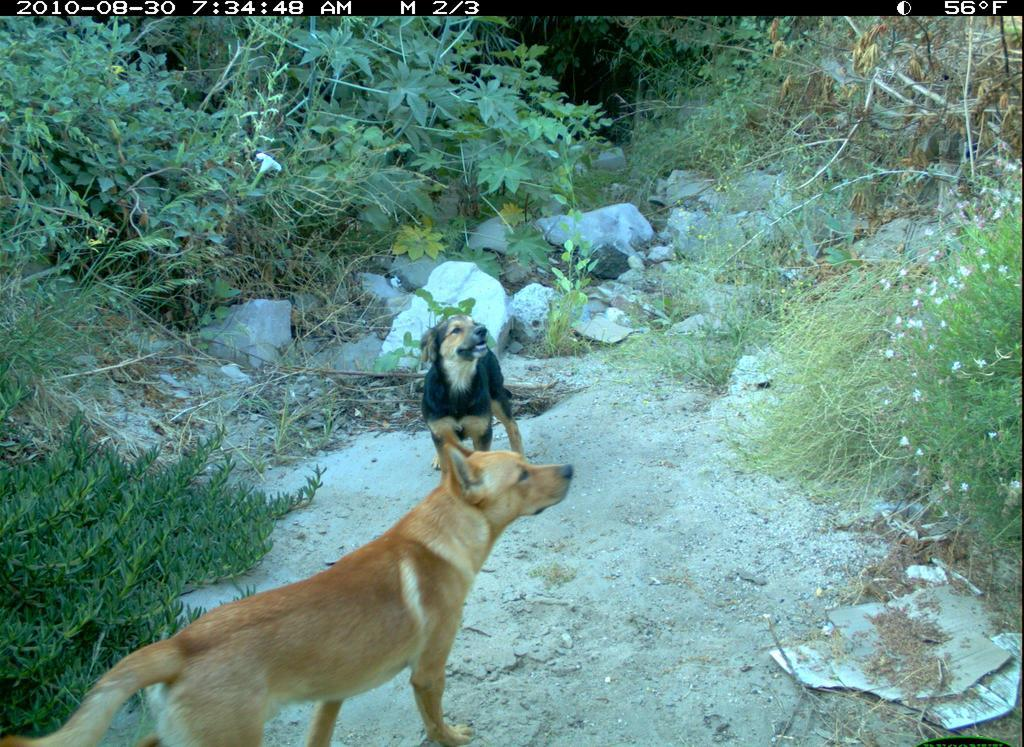dog: (1, 425, 579, 747), (418, 313, 531, 488)
